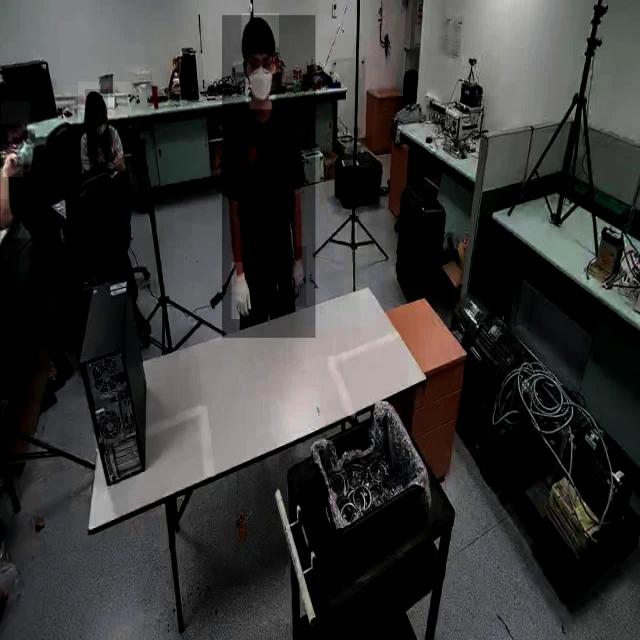face_mask: (245, 51, 275, 110)
hand_glove: (231, 262, 255, 320), (286, 246, 306, 308)
hand_noglove: (2, 149, 24, 178)
head_nohelmet: (241, 13, 279, 48), (0, 94, 30, 125), (84, 89, 108, 115)
person: (222, 15, 316, 339), (0, 101, 68, 239), (77, 82, 132, 183)
